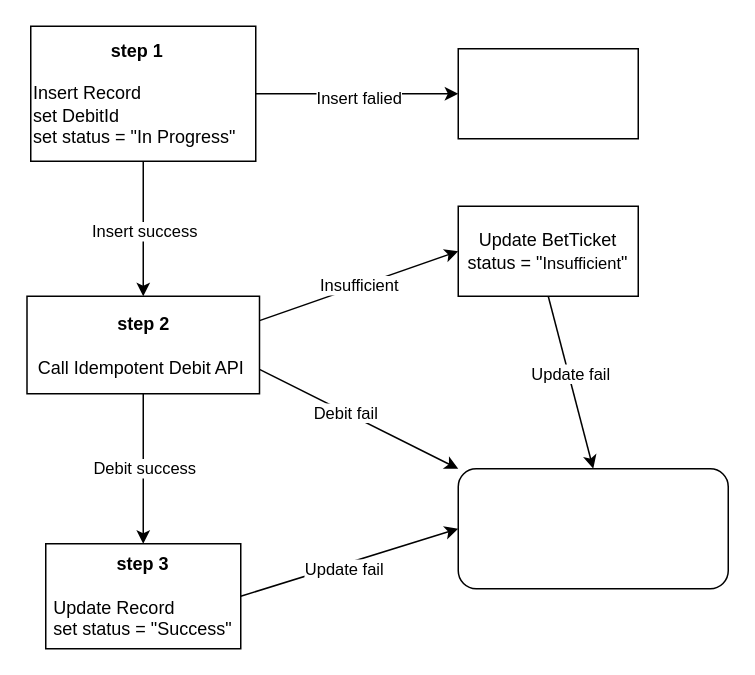
Some shapes in this 755 by 675 pixel diagram are drawn without their labels. Each missing label, with the centre of its shape:
Cron Job Check status == "In Progress" Start over from step 2: [592,528]
Return insert error: [547,93]
